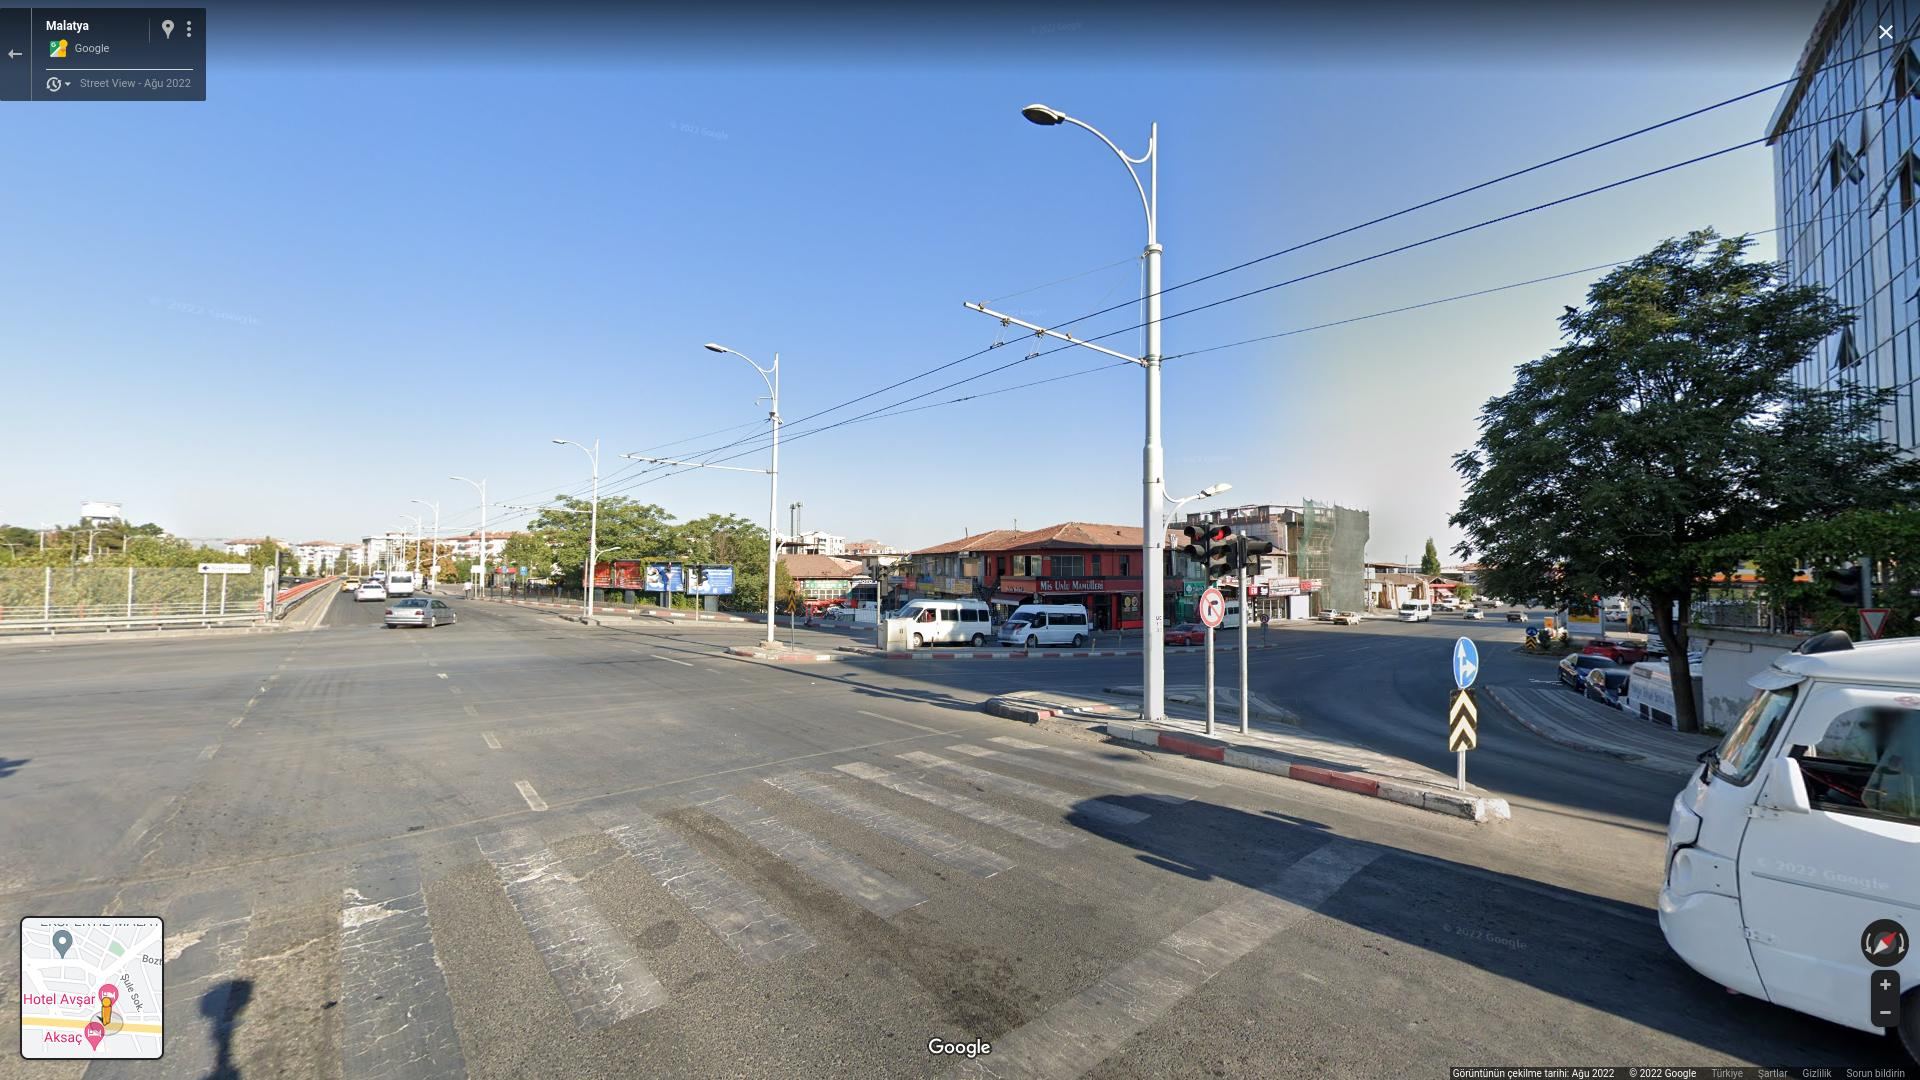redlight: (1207, 524, 1232, 582)
rightturnsareforbidden: (1201, 588, 1224, 626)
